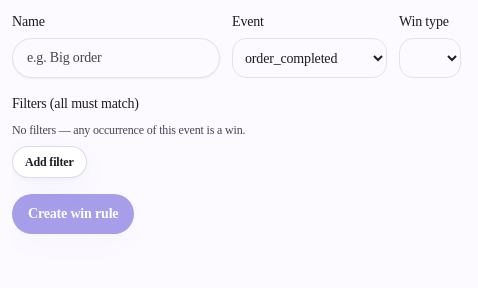
CreateWinRuleForm › shows an inline error when creation fails
Type "Big order" into the field labelled "Name" at (116, 58), box [12,38,220,78]
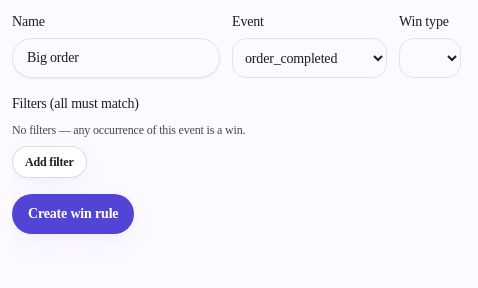
Click the button "Create win rule" at (73, 214), box [12,194,134,234]
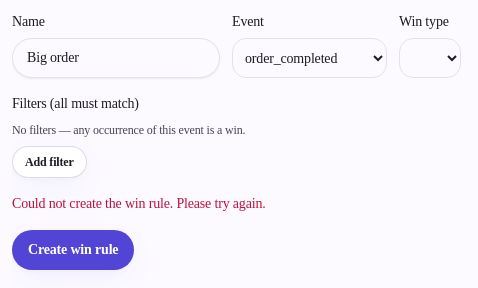
Now the message reads "Could not create the win rule. Please try again.", box [12,196,266,211]
